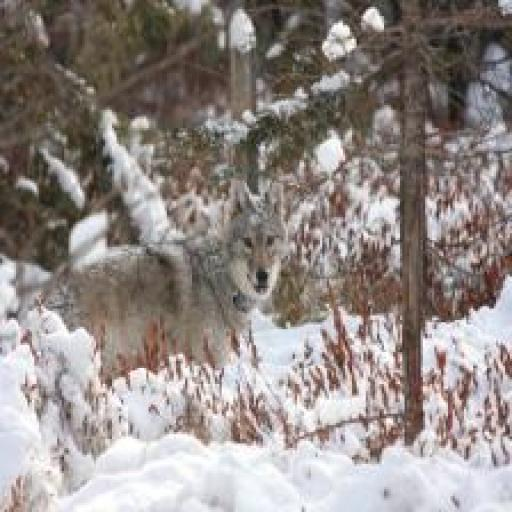wolf: (27, 176, 295, 391)
